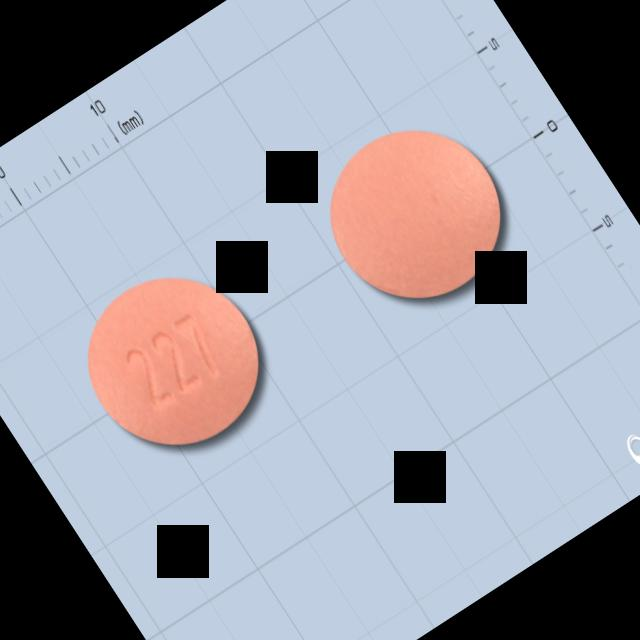Isentress HD: (54, 242, 290, 478)
